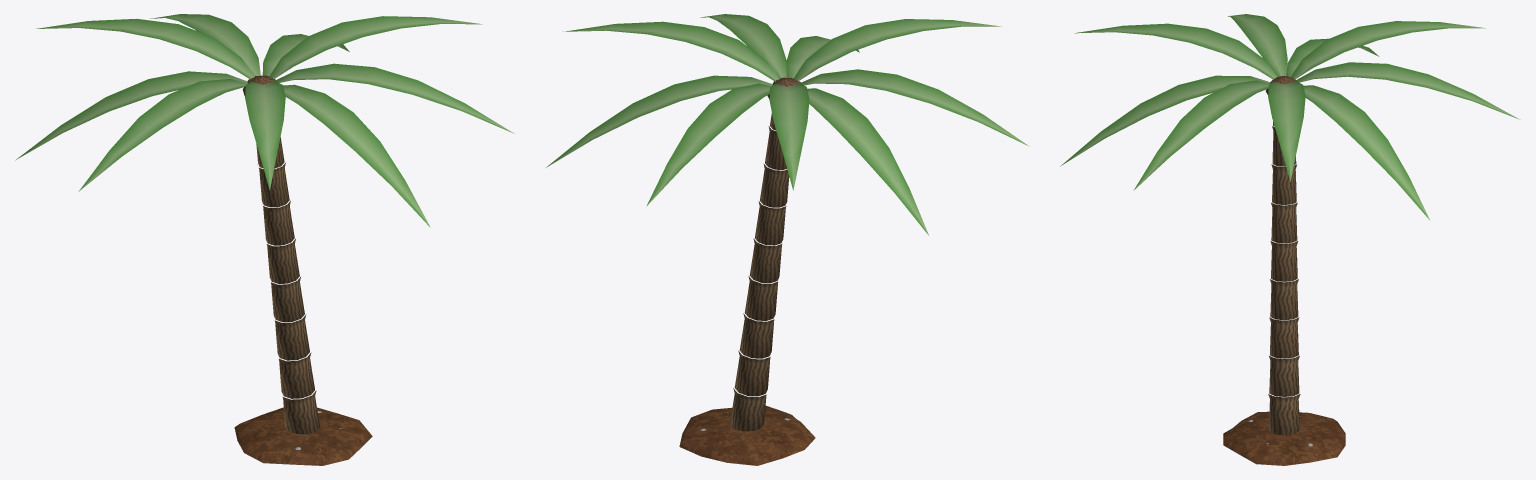
File: plant-coconut-4.glb
3 views of the same model, side by side, from view 1: azimuth 30°, elevation 25°; view 2: azimuth 150°, elevation 25°; view 3: azimuth 270°, elevation 25° (orthographic). The views are drawn at different scales.
Parts seen in each view (by area): view 1: plant-coconut-4; view 2: plant-coconut-4; view 3: plant-coconut-4.
Boxes of the visible parts, bbox=[...] form: plant-coconut-4: bbox=[15, 14, 514, 465]; plant-coconut-4: bbox=[546, 14, 1029, 465]; plant-coconut-4: bbox=[1060, 14, 1520, 465].
Size of the model in its own units: 3.74 by 3.21 by 3.68.
4 materials, 3 textured.
